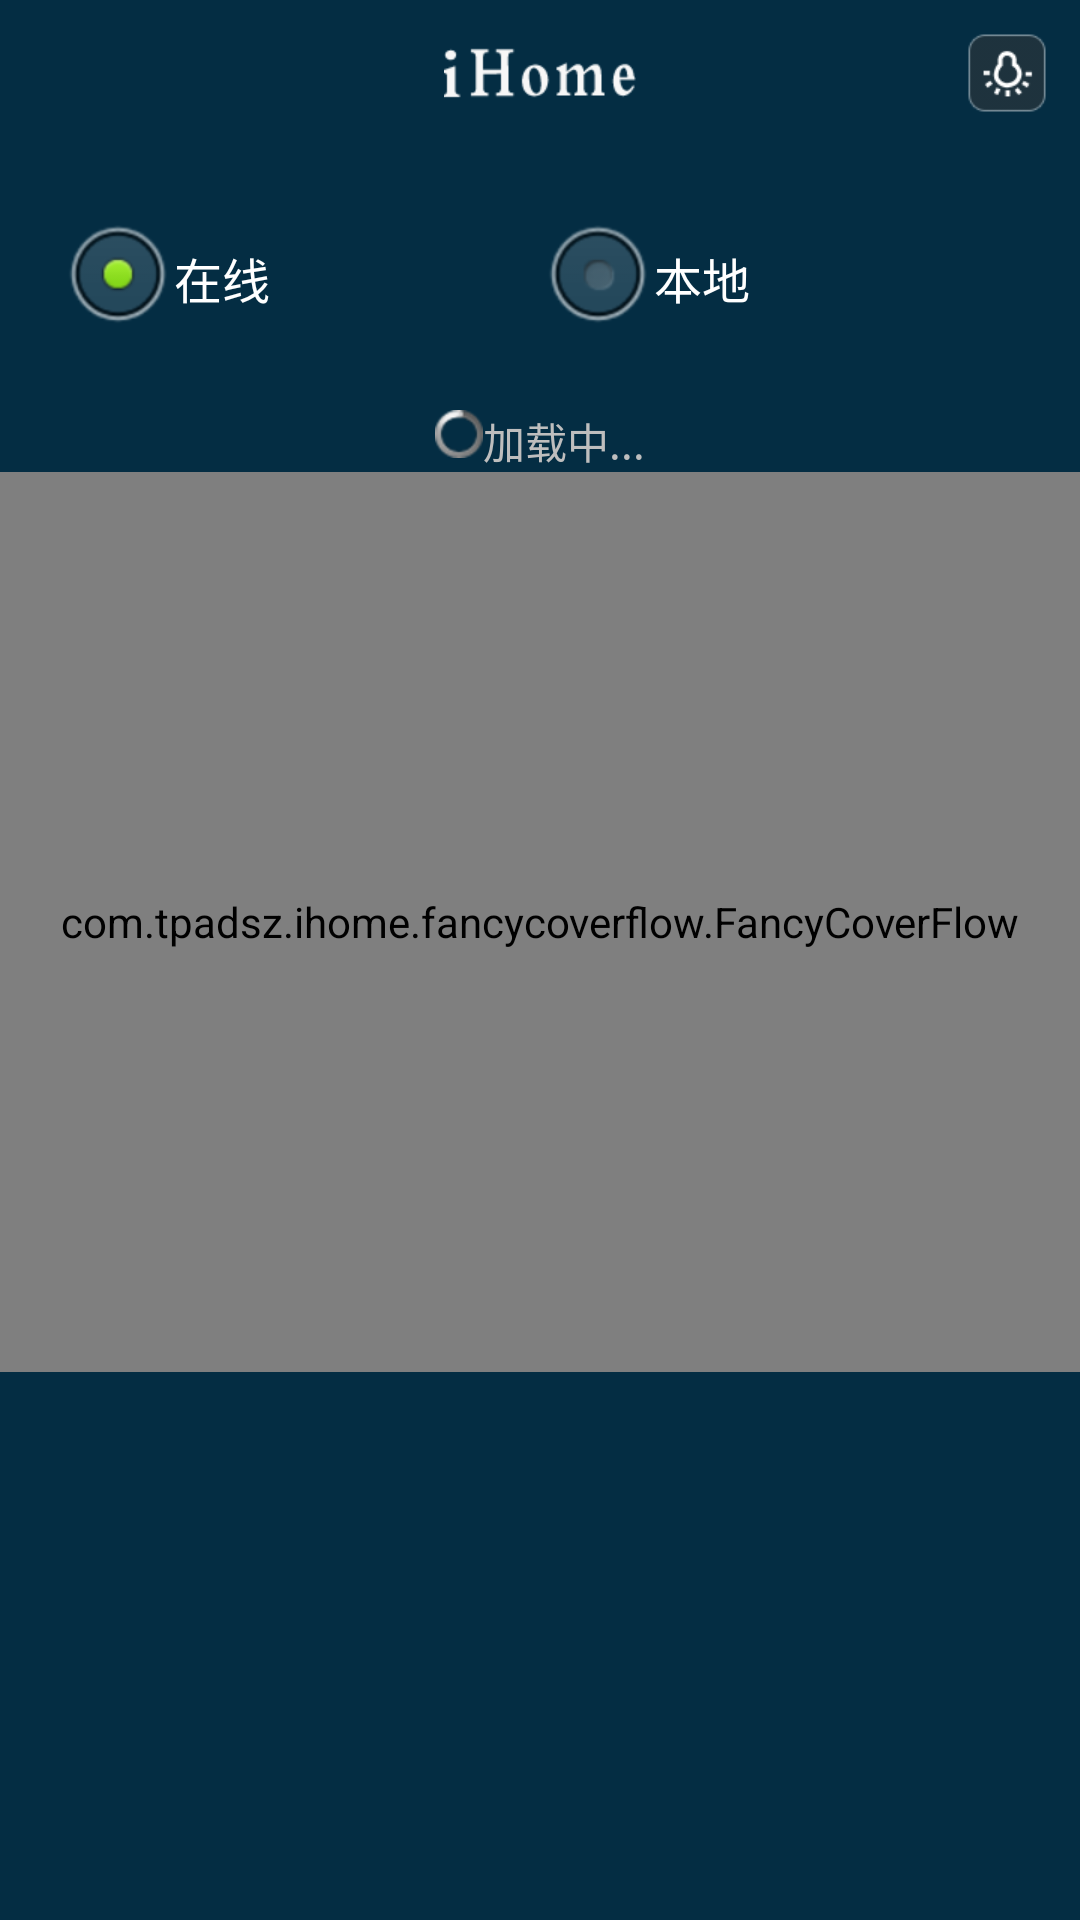

Icon click points for this 1080 x 1920 phone screenshot, format point (x, y):
request turn on: point (1007, 73)
